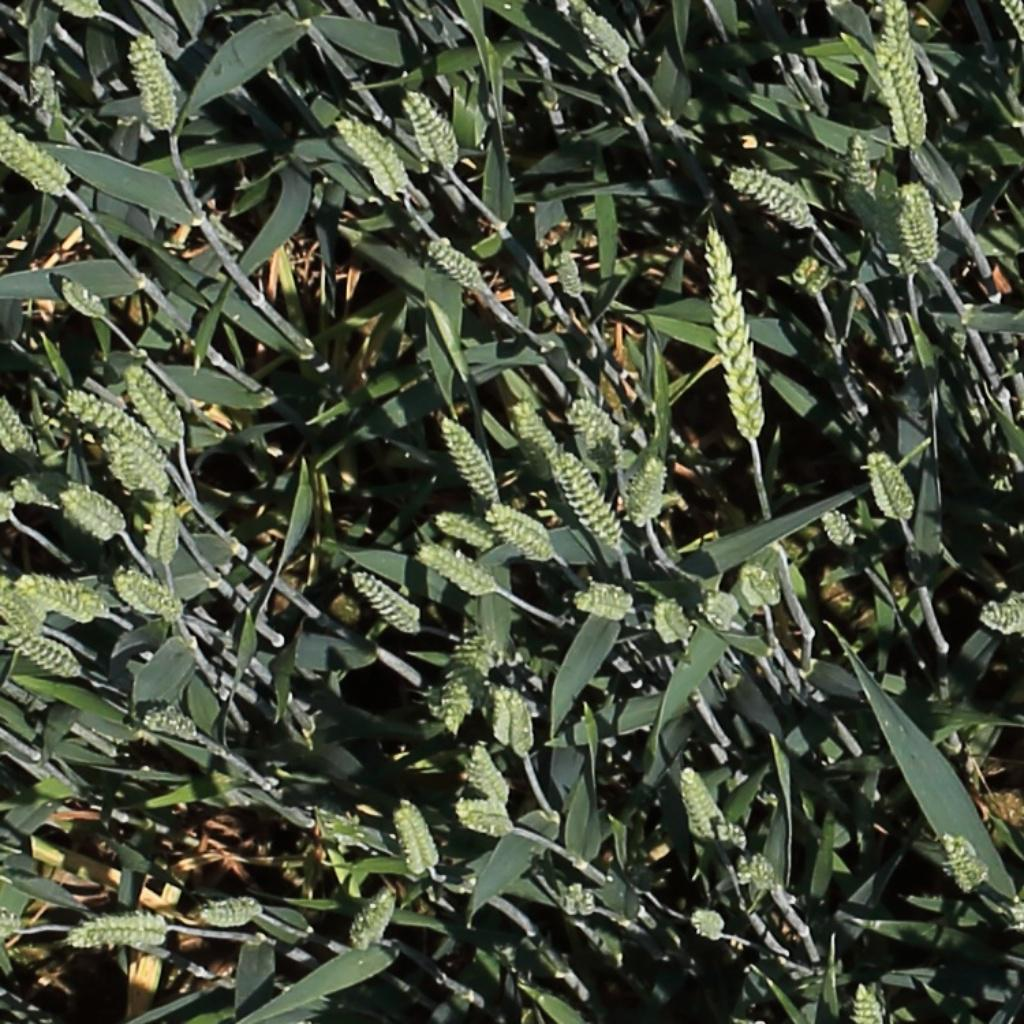0-0: (705, 229, 761, 442), (62, 390, 168, 465), (555, 447, 628, 554), (0, 115, 76, 205), (725, 169, 824, 234), (877, 48, 935, 157), (438, 409, 503, 506), (439, 631, 497, 734), (337, 114, 409, 193), (122, 359, 188, 445), (17, 570, 111, 629), (402, 86, 461, 174), (97, 440, 181, 499), (349, 567, 424, 633), (415, 544, 501, 599), (62, 908, 169, 951), (866, 445, 920, 527), (131, 36, 176, 133), (562, 18, 626, 85), (0, 626, 80, 679), (510, 394, 566, 468), (679, 765, 731, 844), (394, 797, 441, 883), (348, 883, 401, 959), (57, 480, 118, 546), (571, 4, 630, 71), (939, 828, 989, 901), (463, 741, 515, 810), (727, 822, 778, 891), (901, 180, 942, 262), (626, 451, 669, 529), (575, 574, 643, 623), (489, 502, 557, 550), (872, 0, 922, 65), (568, 396, 623, 455), (425, 237, 486, 290), (490, 687, 537, 754), (10, 471, 86, 512), (0, 572, 53, 630), (0, 382, 39, 460), (118, 572, 180, 621), (849, 125, 883, 204), (193, 893, 265, 930), (452, 797, 510, 840), (57, 273, 109, 320), (655, 592, 696, 649), (28, 57, 62, 124), (151, 499, 182, 572), (820, 502, 862, 555), (554, 241, 589, 304), (435, 513, 498, 548), (740, 562, 785, 610), (977, 785, 1024, 830), (141, 706, 200, 741), (685, 905, 732, 947), (979, 596, 1024, 639), (790, 250, 833, 293), (848, 977, 887, 1024), (702, 585, 742, 630), (565, 877, 598, 924), (999, 0, 1024, 44), (53, 0, 106, 20), (0, 903, 23, 939), (0, 489, 20, 523)
